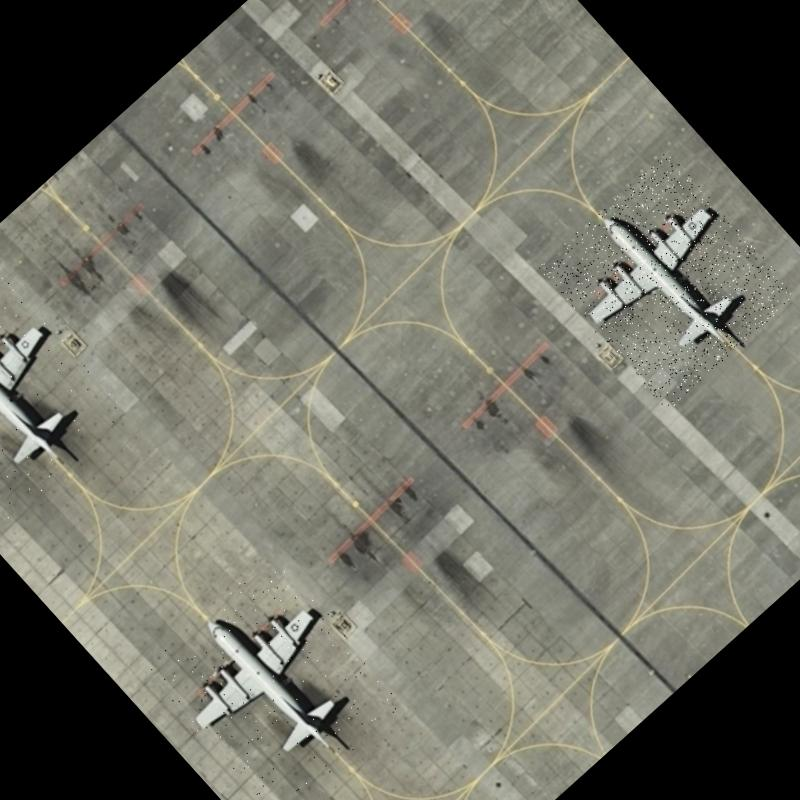A9: (537, 150, 797, 411), (141, 551, 408, 800), (0, 272, 129, 526)
